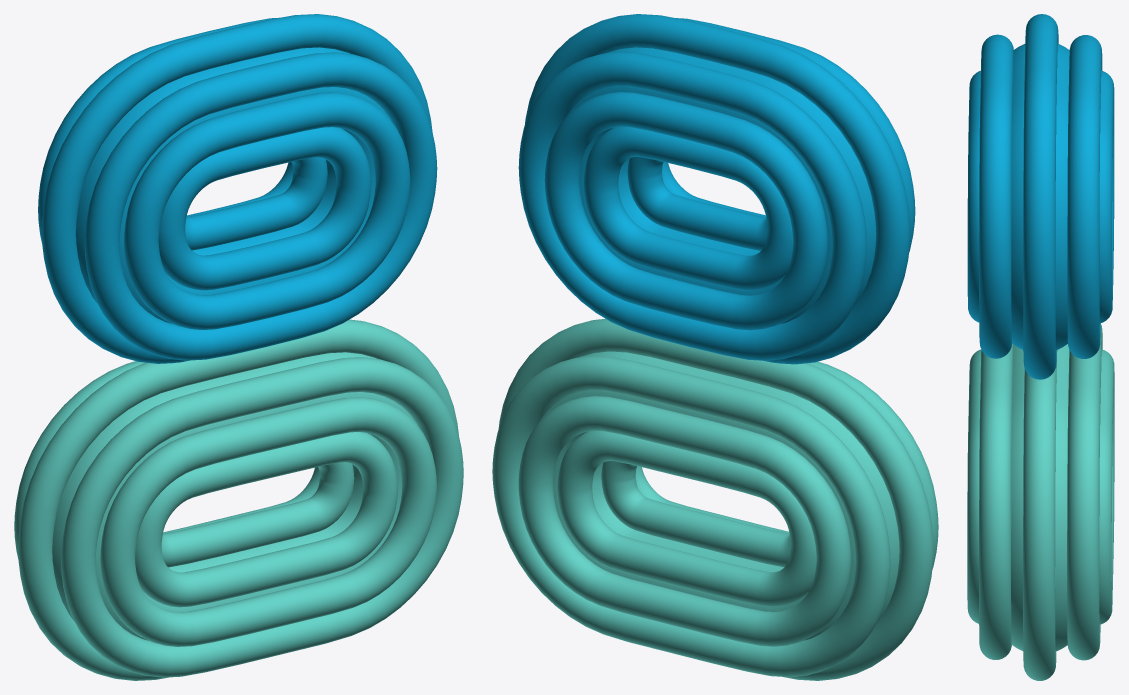
The picture shows the model from 3 angles, left to right: view 1: azimuth 30°, elevation 25°; view 2: azimuth 150°, elevation 25°; view 3: azimuth 270°, elevation 25°; orthographic projection. The views are drawn at different scales.
Visible parts, largest first — view 1: Bottom, Top; view 2: Bottom, Top; view 3: Top, Bottom.
Part boxes in pixels (bbox=[...]): Bottom: bbox=[14, 319, 463, 680]; Top: bbox=[38, 14, 437, 363]; Bottom: bbox=[492, 318, 938, 680]; Top: bbox=[518, 14, 915, 364]; Top: bbox=[967, 14, 1114, 379]; Bottom: bbox=[967, 323, 1114, 680].
Bounding box in the file's own units: 1.67 × 2.32 × 0.5283.
